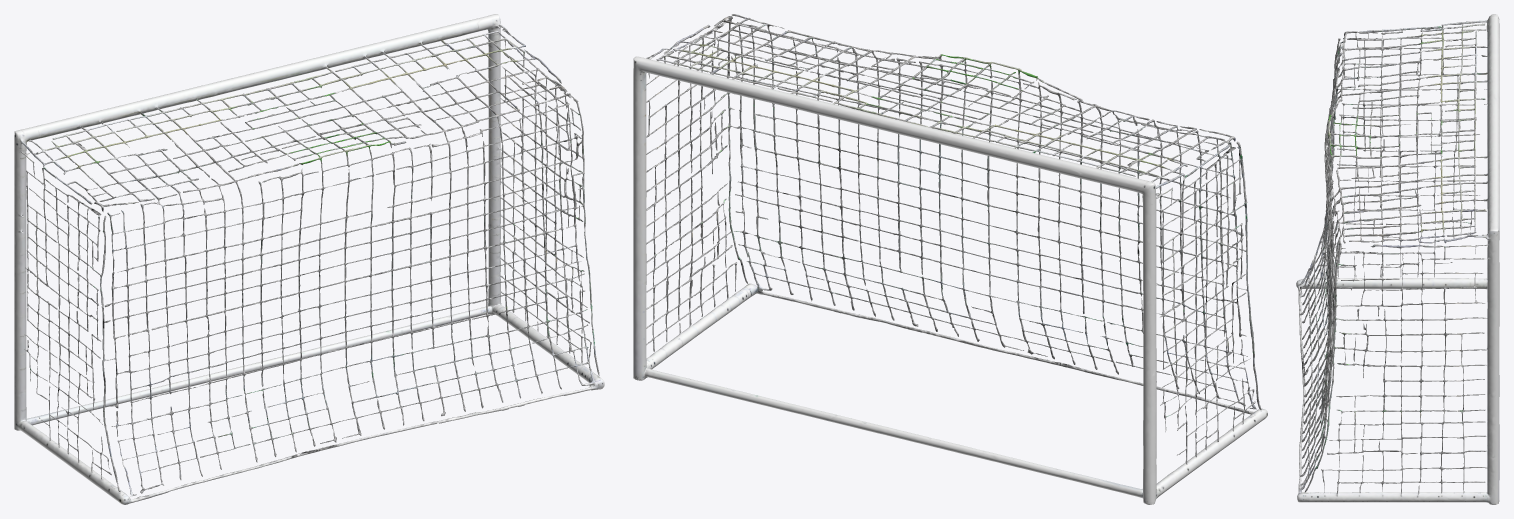
Rendered from Meshy_AI_Goal_Posts_Professi_0323202113_texture.glb.
3 renders of one model, left to right at view 1: azimuth 30°, elevation 25°; view 2: azimuth 150°, elevation 25°; view 3: azimuth 270°, elevation 25°, orthographic. The views are drawn at different scales.
Size of the model in its own units: 1.98 by 1.16 by 0.7762.
Materials: 1 (1 with a texture image).
